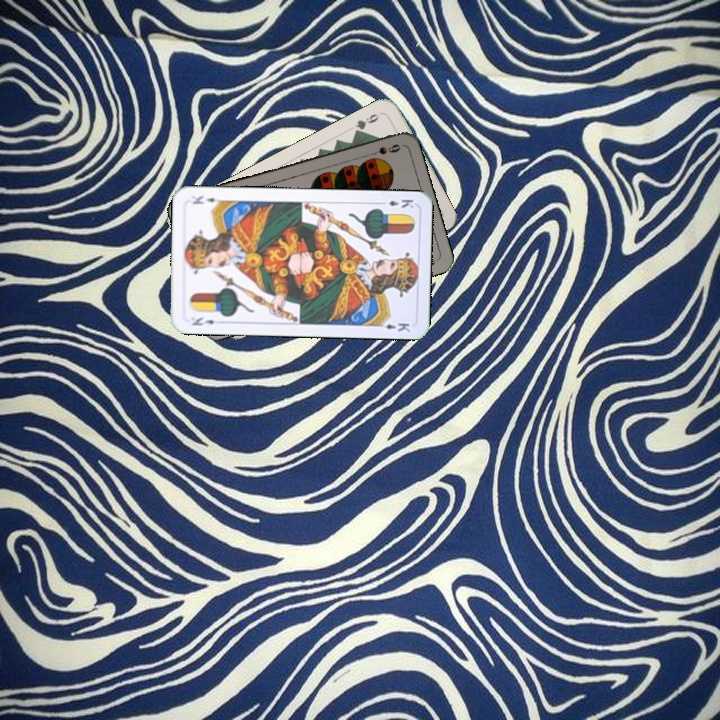EK: (376, 195, 416, 210), (188, 313, 217, 328)
G9: (350, 108, 386, 137)
S9: (363, 140, 403, 159)
